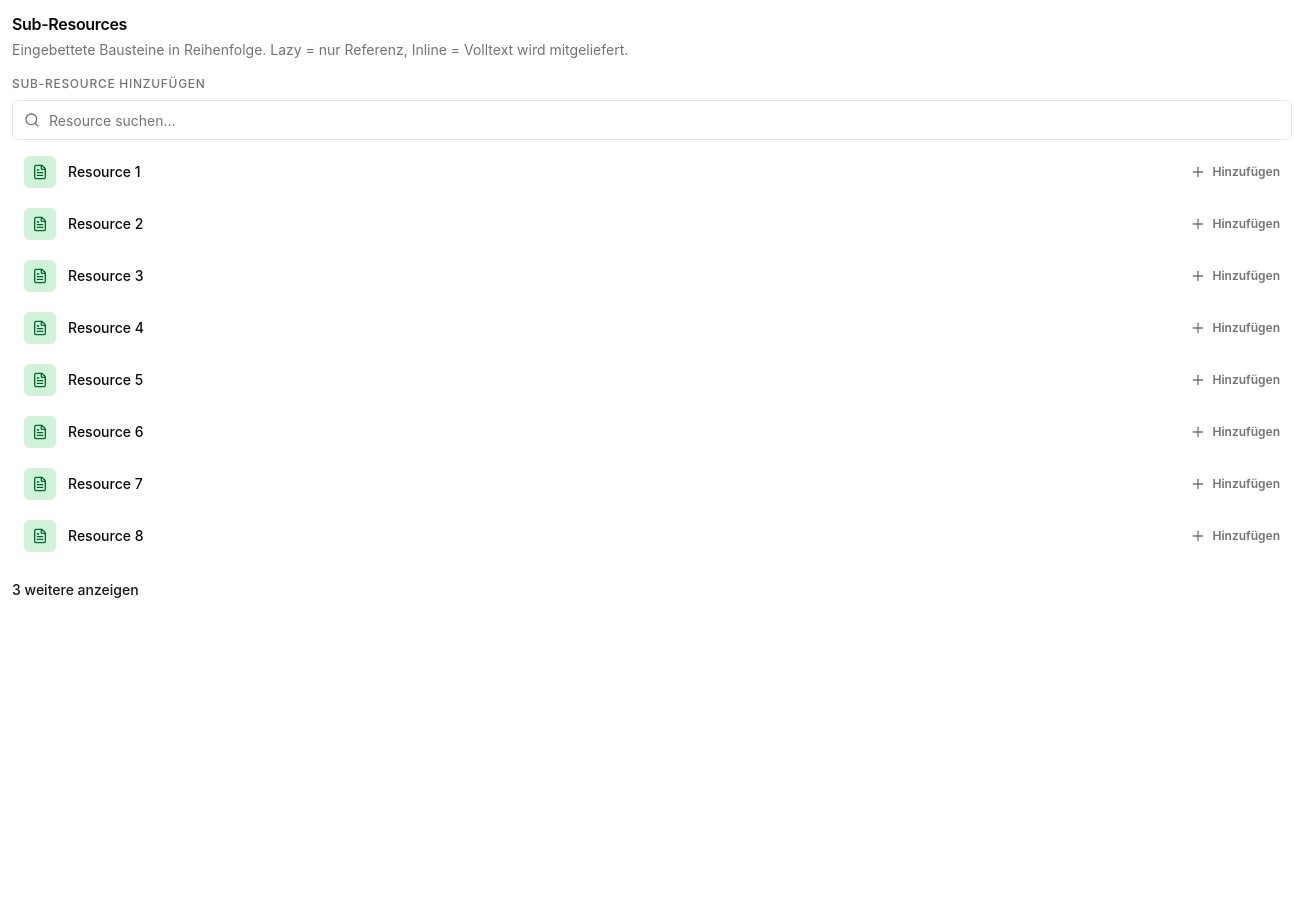
Test case: SubResourcePicker — Auswahlliste (M9/M6) › zeigt unter md 8 Treffer ohne inneren Scroller und laedt den Rest nach
The width and height of the screenshot is (1304, 912).
Click the button "3 weitere anzeigen" at (75, 590), box [12,568,139,612]
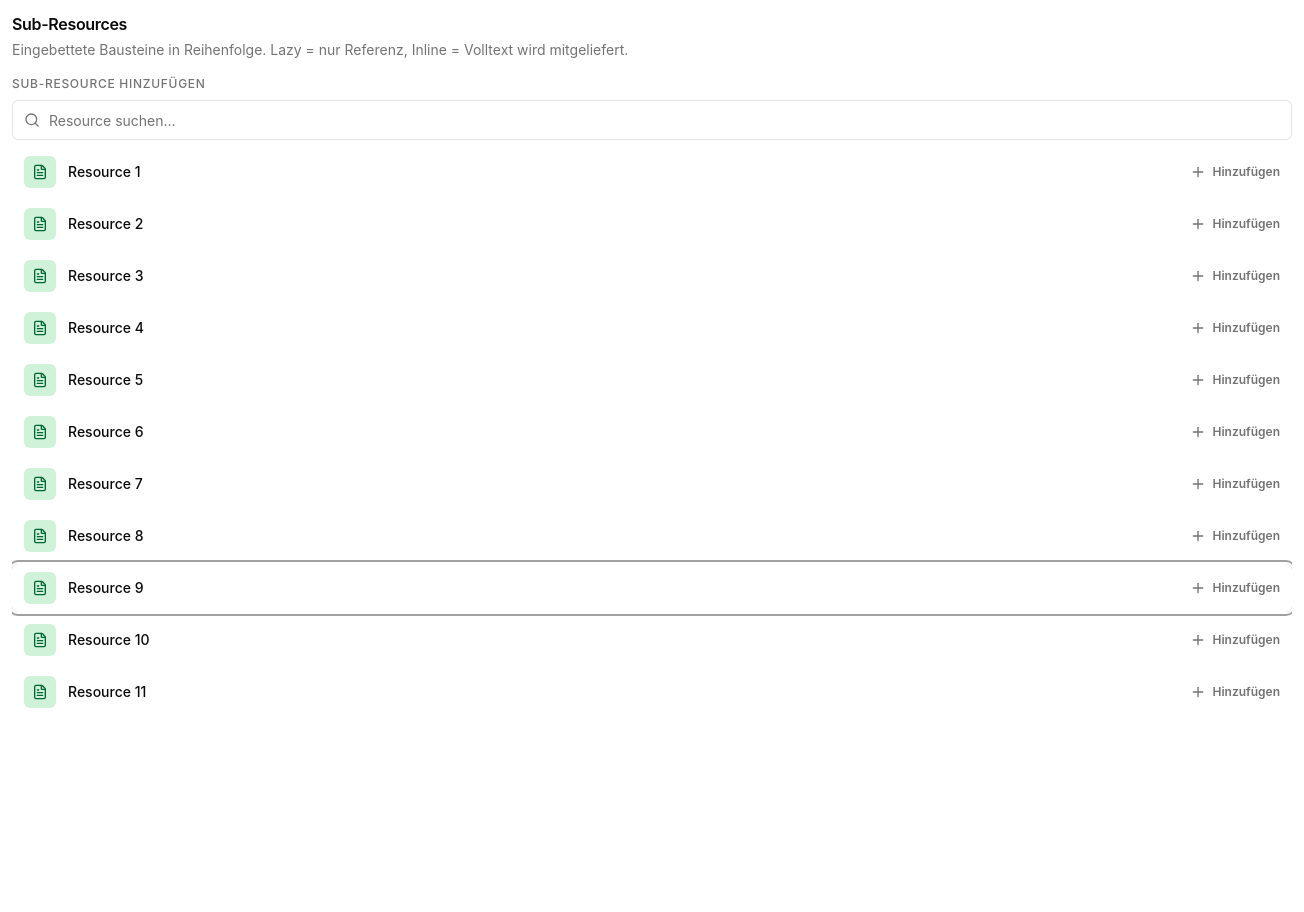
Result: the button "weitere anzeigen" is gone
